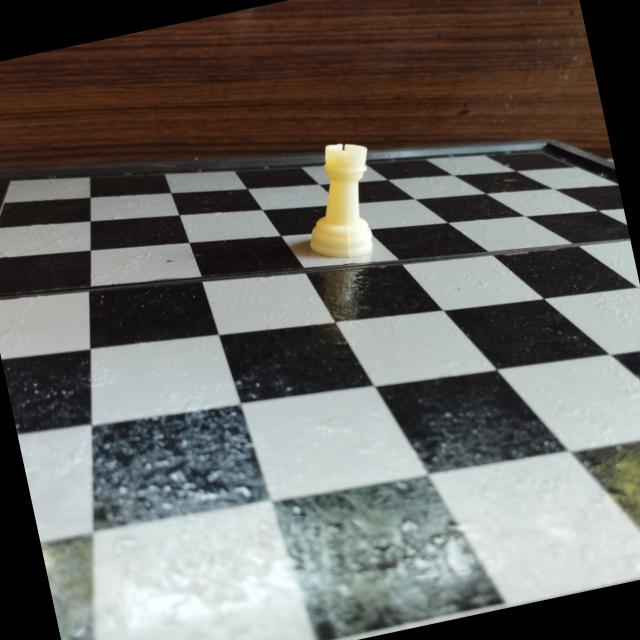White Rook: (283, 132, 395, 272)
